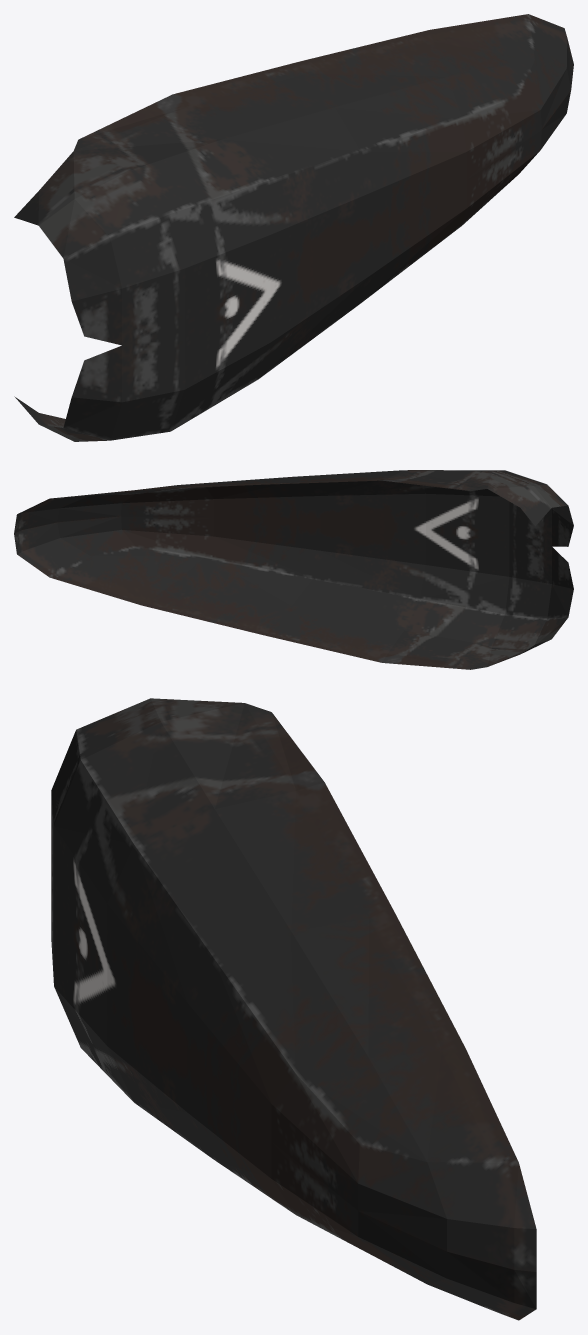
The model's file is SM_Fighter_Canopy.obj.
3 views of the same model, one above another, from view 1: azimuth 30°, elevation 25°; view 2: azimuth 150°, elevation 25°; view 3: azimuth 270°, elevation 25° (orthographic). The views are drawn at different scales.
Visible parts, largest first — view 1: SM_Fighter_Canopy; view 2: SM_Fighter_Canopy; view 3: SM_Fighter_Canopy.
Part boxes in pixels (box(x1,y1,x2,y2)): SM_Fighter_Canopy: box(14, 14, 573, 441); SM_Fighter_Canopy: box(14, 470, 573, 669); SM_Fighter_Canopy: box(51, 698, 536, 1320).
Size of the model in its own units: 303 by 119 by 143.
Materials: 1 (1 with a texture image).
